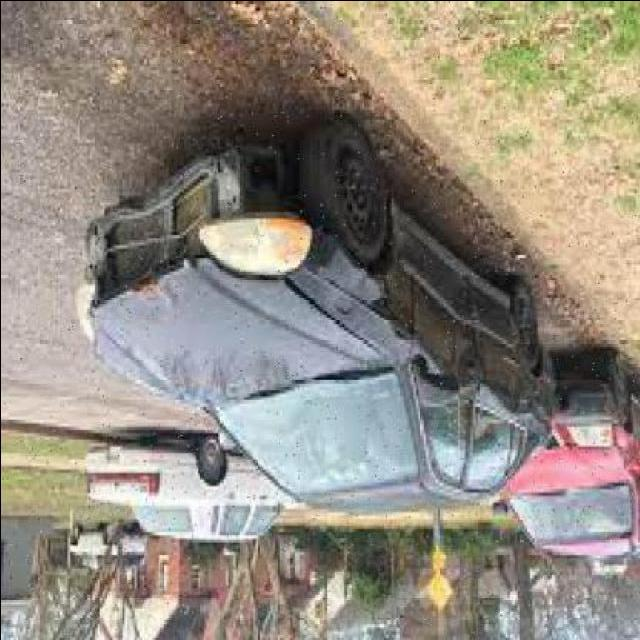doorouter-dent: (472, 290, 534, 426), (409, 257, 473, 386)
front-bumper-dent: (45, 155, 285, 271)
